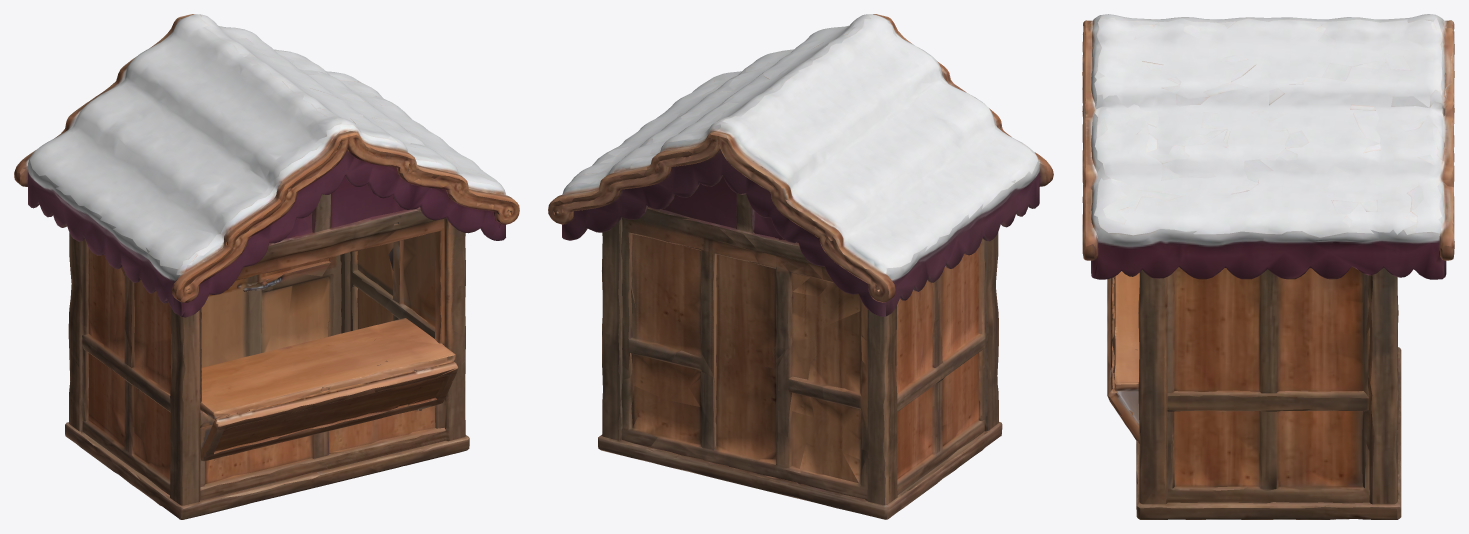
The model's file is aholo-g1-market.glb.
3 renders of one model, left to right at view 1: azimuth 30°, elevation 25°; view 2: azimuth 150°, elevation 25°; view 3: azimuth 270°, elevation 25°, orthographic. The views are drawn at different scales.
Parts seen in each view (by area): view 1: geometry_0; view 2: geometry_0; view 3: geometry_0.
Boxes of the visible parts, box(x1,y1,x2,y2) form: geometry_0: box(14, 14, 519, 519); geometry_0: box(548, 14, 1053, 519); geometry_0: box(1082, 14, 1454, 519).
Bounding box in the file's own units: 2.12 × 2.2 × 1.75.
Materials: 1 (1 with a texture image).
